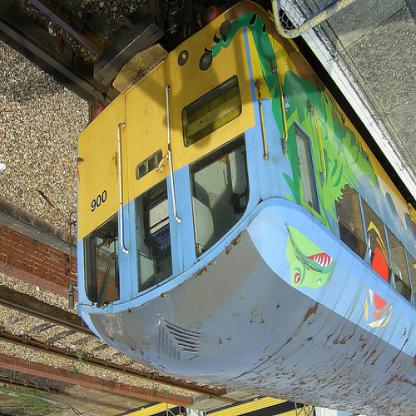train: (73, 2, 416, 416)
